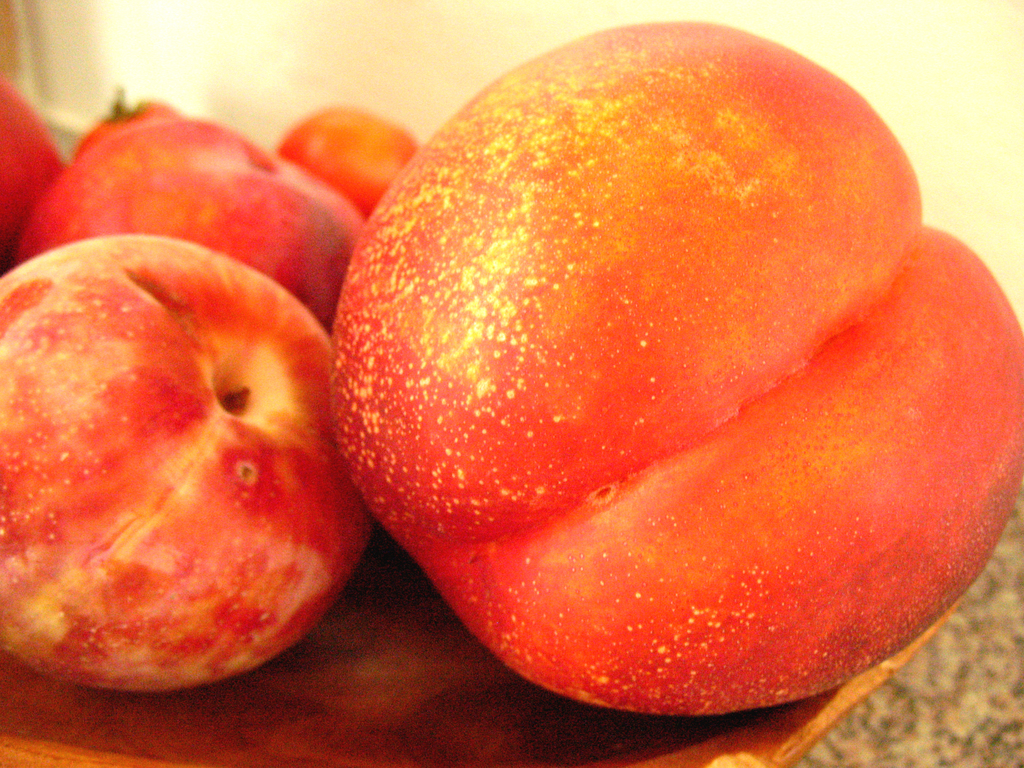Apple: (7, 202, 359, 714), (12, 117, 373, 330)
